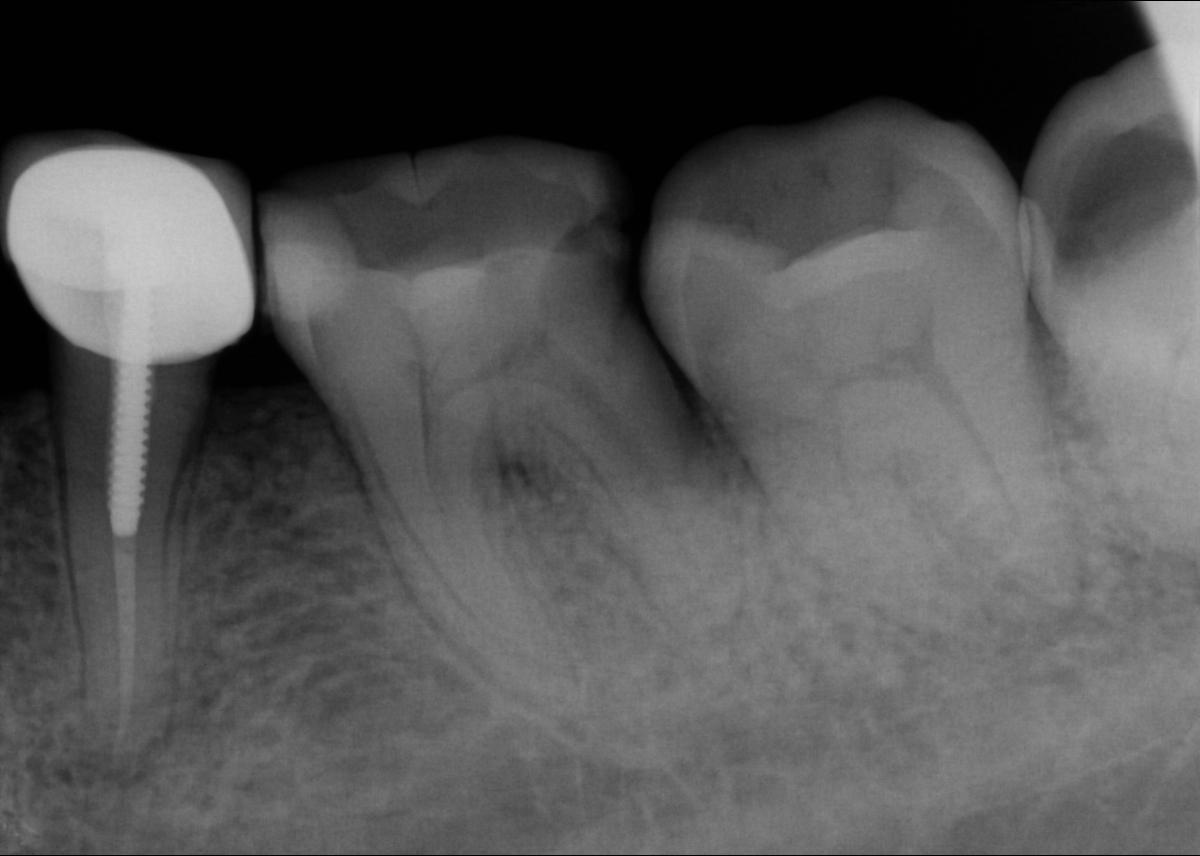Endo-Periodontal Lesion: (497, 459, 541, 496)
Furcation Involvement: (57, 713, 172, 788)
